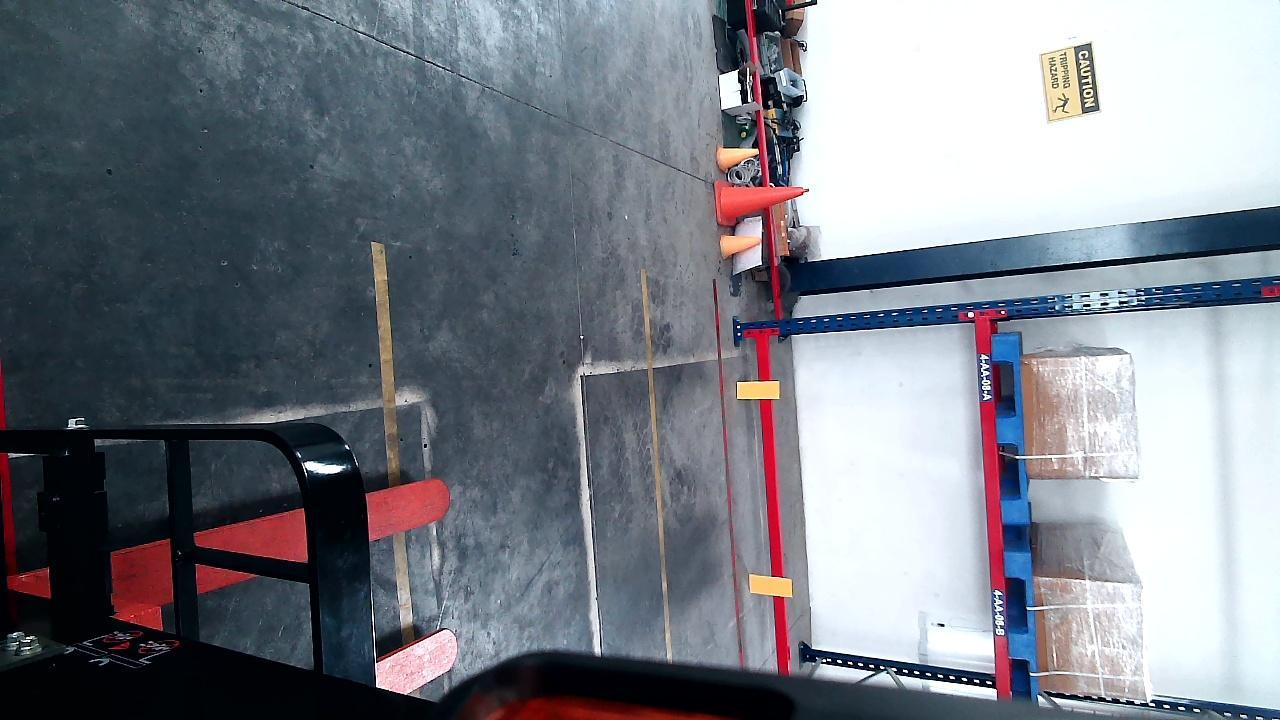red_line: (710, 271, 746, 666)
yellow_line: (640, 262, 683, 665), (376, 238, 412, 635)
